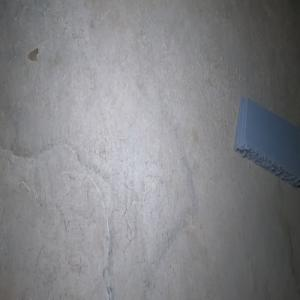PlasticPart: (233, 96, 300, 188)
